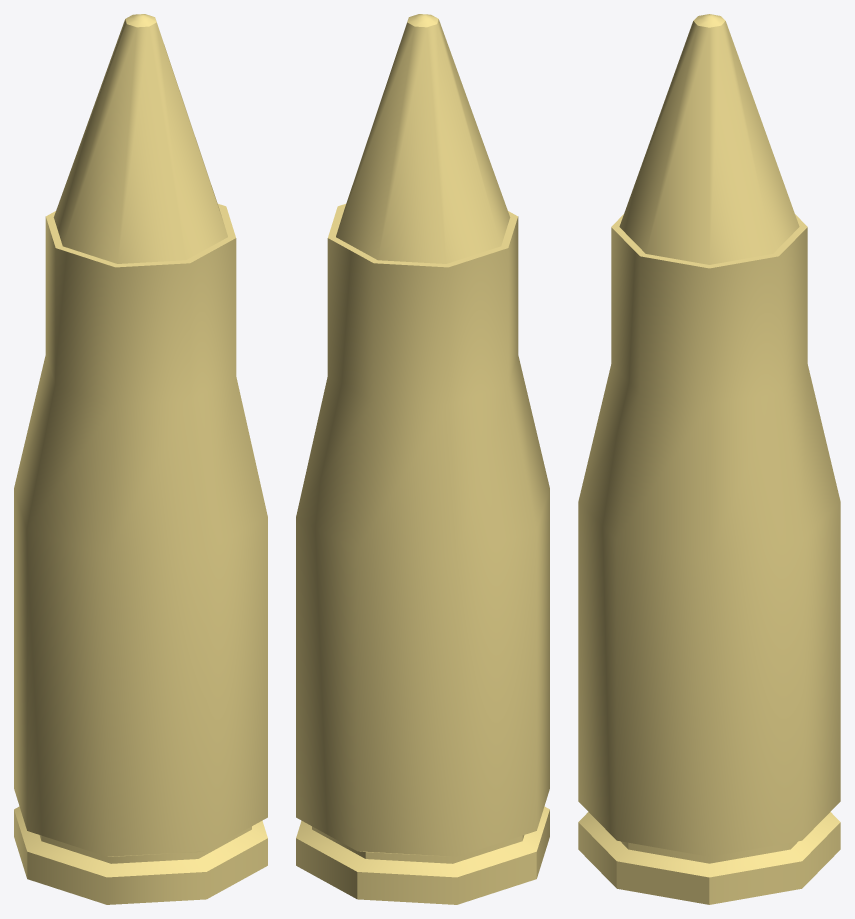
Rendered from Bullet.fbx.
3 renders of one model, left to right at view 1: azimuth 30°, elevation 25°; view 2: azimuth 150°, elevation 25°; view 3: azimuth 270°, elevation 25°, orthographic.
Visible parts, largest first — view 1: Cylinder001; view 2: Cylinder001; view 3: Cylinder001.
Boxes of the visible parts, <box> form: Cylinder001: <box>14,14,267,904</box>; Cylinder001: <box>296,14,549,904</box>; Cylinder001: <box>578,14,840,904</box>.
Bounding box in the file's own units: 112 × 392 × 112.
Materials: 1 (1 with a texture image).
